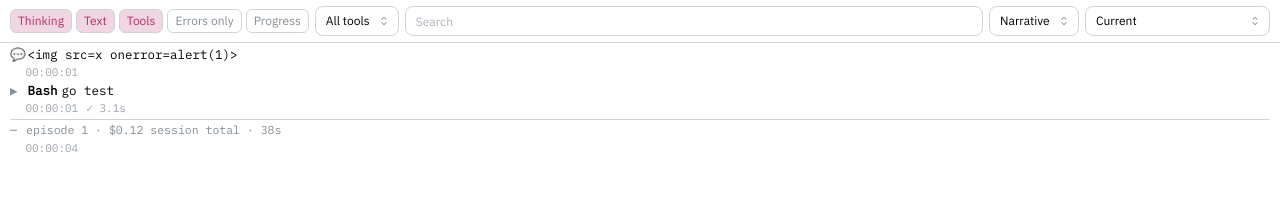
Test case: the Thinking tab › shows events as text (never markup), pairs tool results, and labels costs
Check: the text "<img src=x onerror=alert(1)>" is shown, box [28,46,238,62]
Check: the text "✓ 3.1s" is shown, box [86,101,126,115]
Click the 2nd element with class "te-line" at (62, 90), box [10,82,114,98]
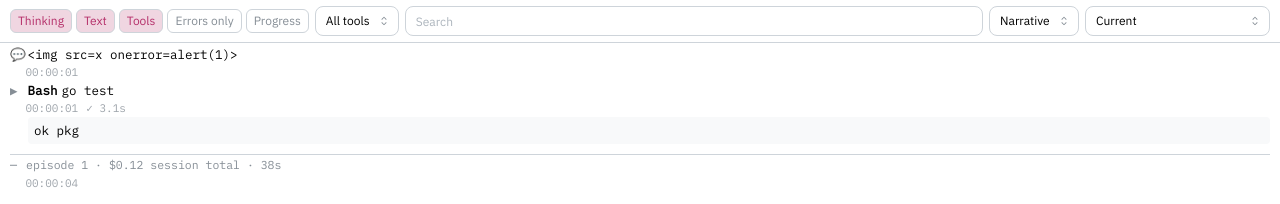
Check: the text "ok pkg" is shown, box [28,117,1270,144]
